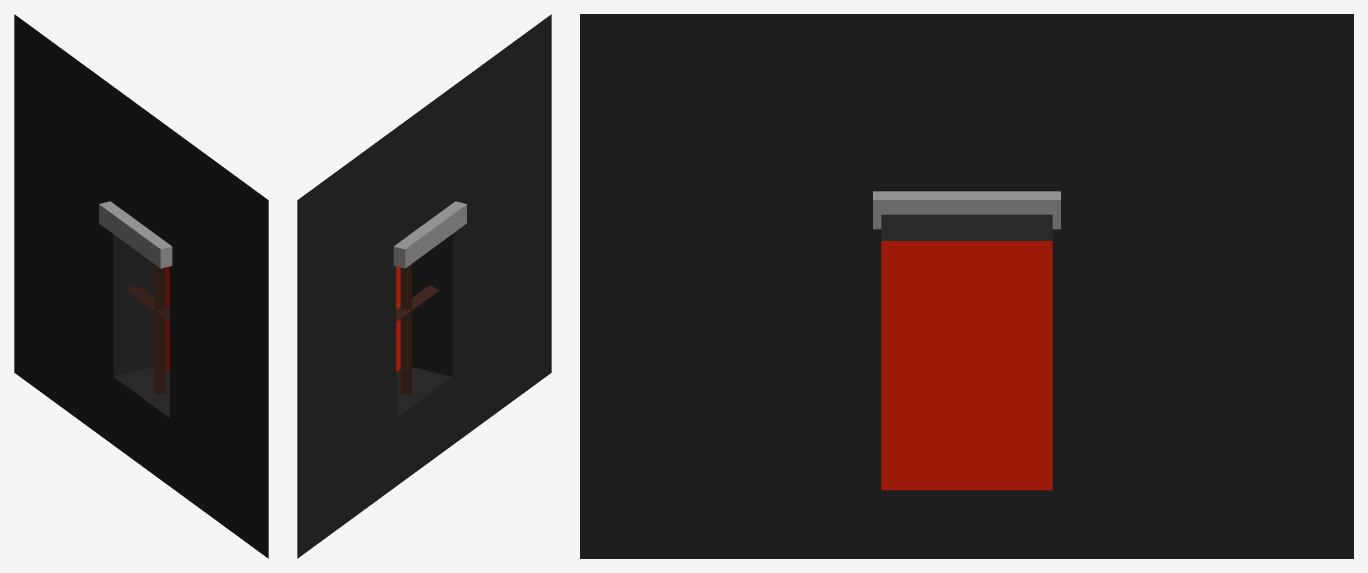
Rendered from standard_window_1.FBX.
3 views of the same model, side by side, from view 1: azimuth 30°, elevation 25°; view 2: azimuth 150°, elevation 25°; view 3: azimuth 270°, elevation 25° (orthographic). The views are drawn at different scales.
Visible parts, largest first — view 1: standard_window_1; view 2: standard_window_1; view 3: standard_window_1.
Part boxes in pixels (<box>): standard_window_1: <box>14,14,268,558</box>; standard_window_1: <box>297,14,551,558</box>; standard_window_1: <box>580,14,1353,558</box>.
Size of the model in its own units: 24.94 by 145 by 186.
